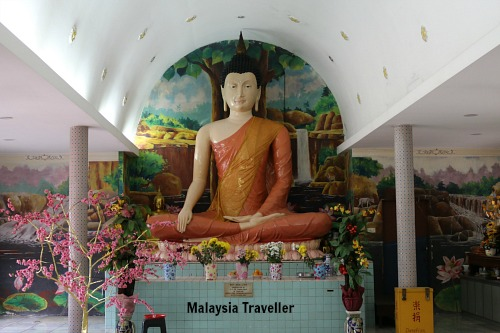Buddhist Temple: (139, 36, 327, 262)
